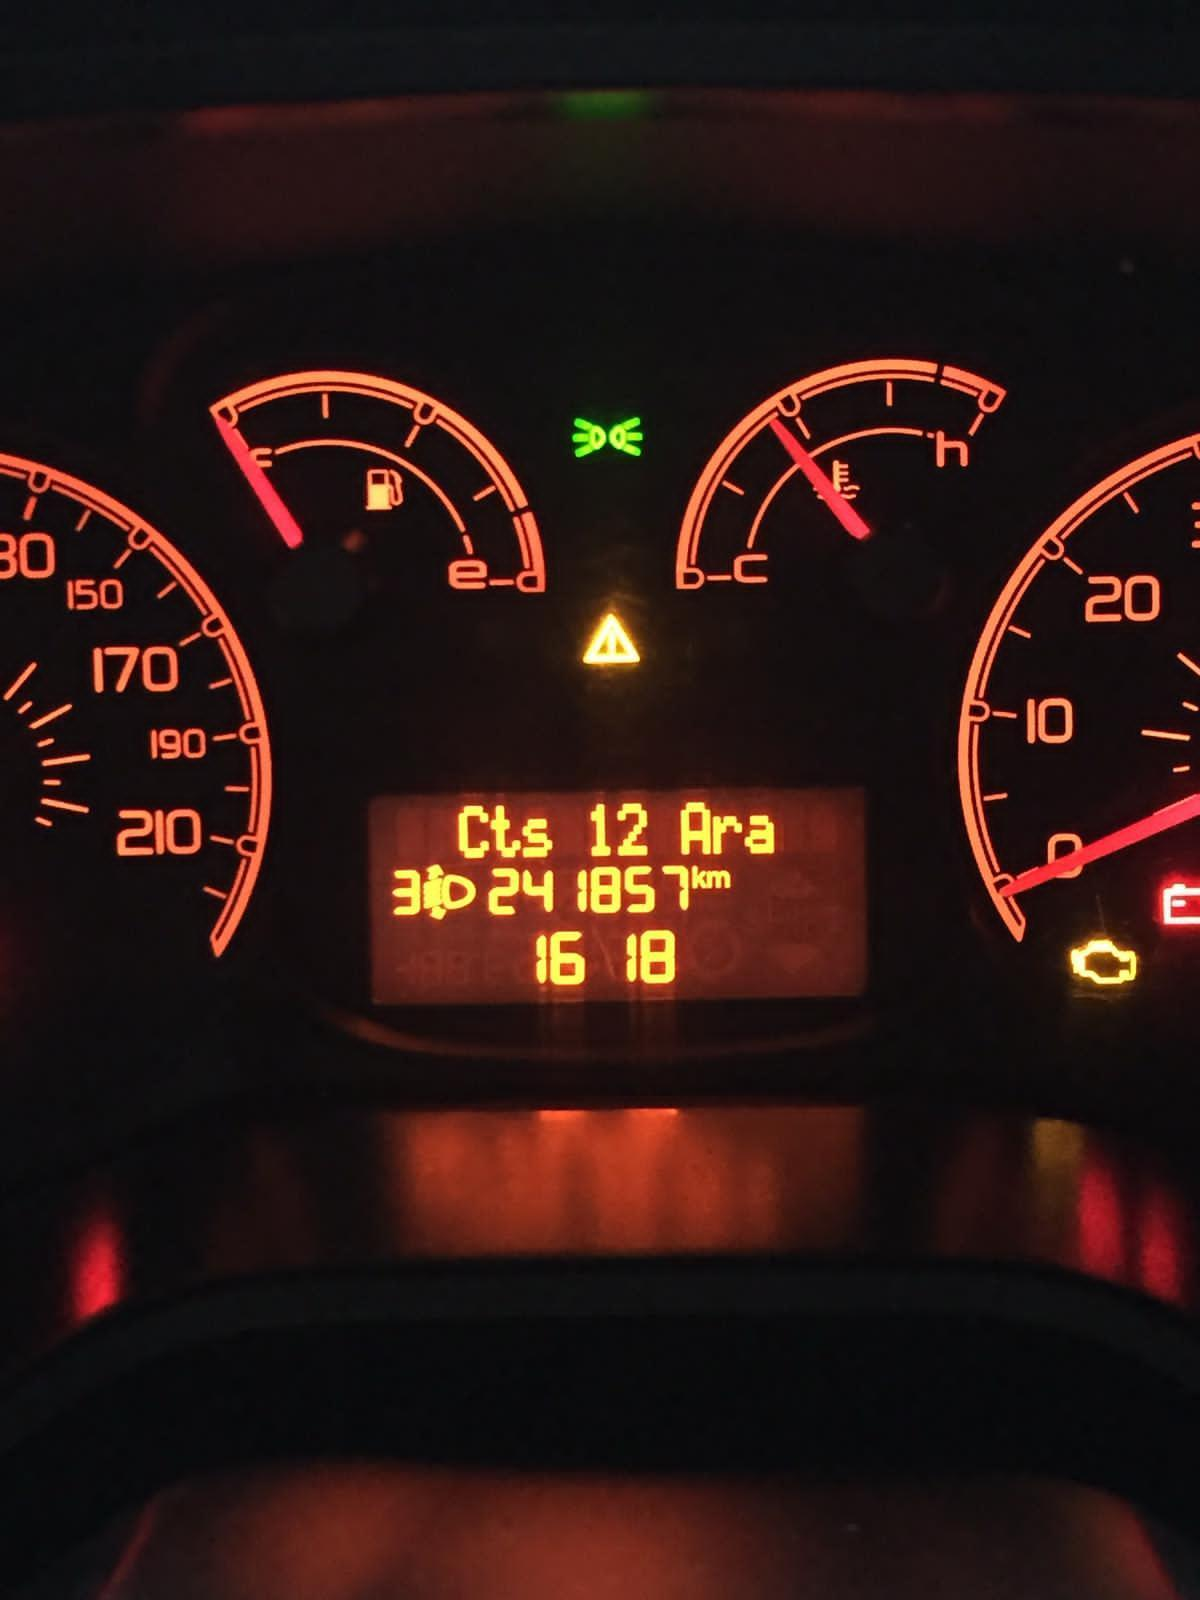1: (584, 800, 613, 860), (531, 930, 547, 986), (620, 929, 637, 984), (570, 866, 589, 913)
2: (613, 800, 650, 858), (487, 866, 521, 918)
3: (389, 866, 424, 918)
4: (521, 867, 555, 915)
5: (623, 863, 655, 915)
6: (548, 927, 587, 986)
7: (659, 862, 689, 913)
8: (637, 927, 678, 986), (589, 863, 623, 916)
X: (674, 797, 711, 857), (455, 803, 489, 860), (489, 803, 521, 860), (521, 813, 555, 860), (742, 813, 776, 855), (712, 813, 742, 855), (707, 866, 731, 891), (689, 862, 707, 889)
odometer: (357, 774, 880, 1020)
